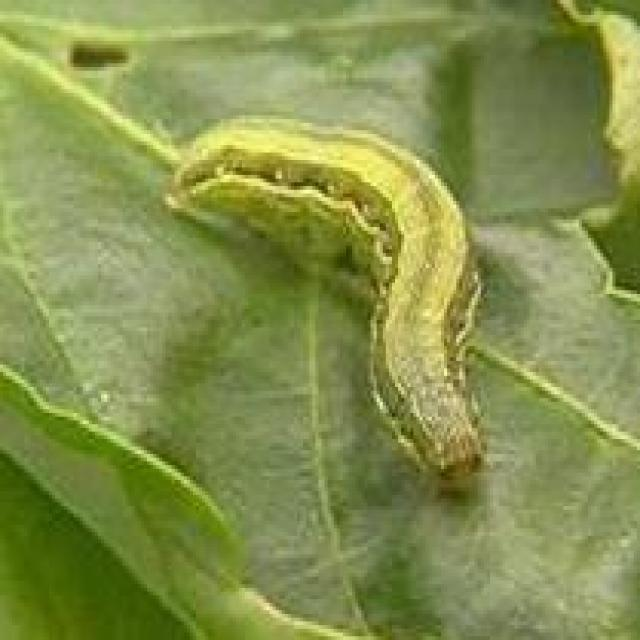armyworm: (135, 111, 516, 495)
